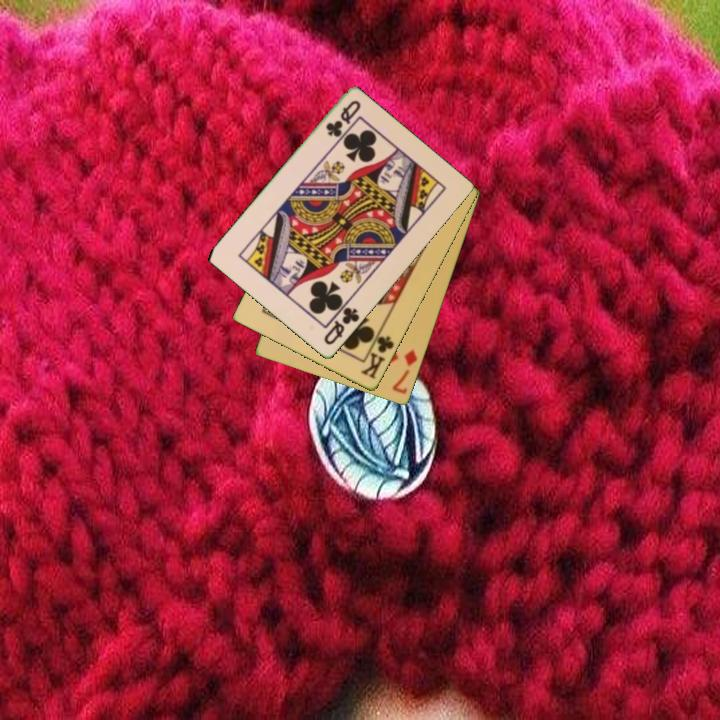7d: (389, 346, 420, 397)
Kc: (357, 327, 397, 383)
Qc: (320, 298, 363, 348), (322, 97, 364, 141)
